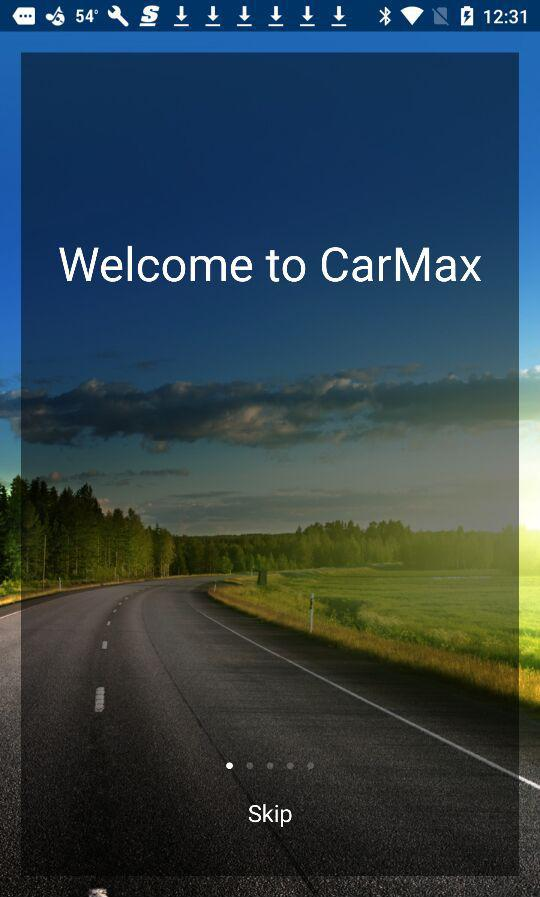BackgroundImage: (2, 33, 540, 896)
PageIndicator: (225, 761, 316, 771)
Text: (58, 246, 483, 284), (248, 803, 293, 828)
UpperTaskBar: (1, 1, 540, 33)
